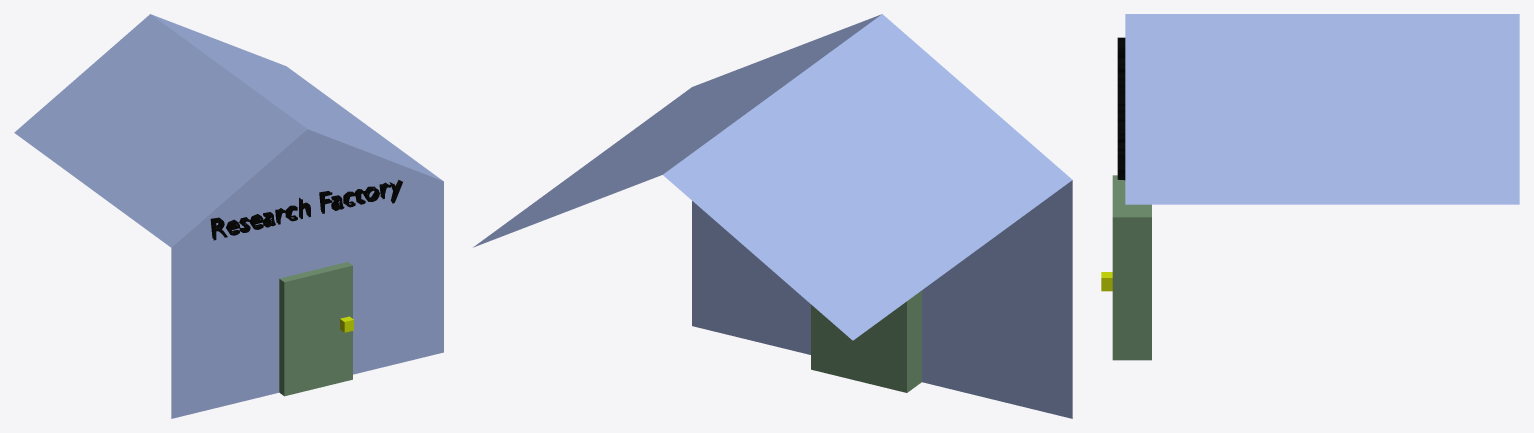
The model's file is Science_Factory_Performance.fbx.
The picture shows the model from 3 angles, left to right: view 1: azimuth 30°, elevation 25°; view 2: azimuth 150°, elevation 25°; view 3: azimuth 270°, elevation 25°; orthographic projection. The views are drawn at different scales.
Parts seen in each view (by area): view 1: base; view 2: base; view 3: base.
Boxes of the visible parts, left/top/right/bottom form: base: left=14, top=14, right=443, bottom=418; base: left=473, top=14, right=1072, bottom=418; base: left=1101, top=14, right=1519, bottom=360.
Size of the model in its own units: 1000 by 900 by 1061.
